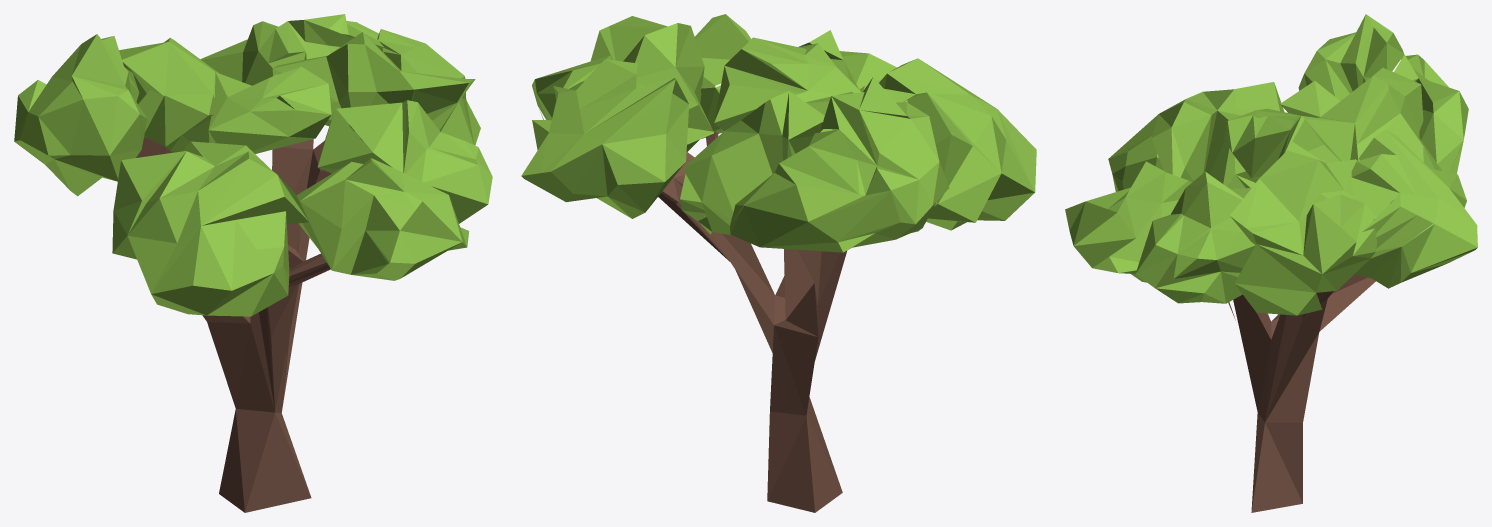
Rendered from tree1.glb.
3 renders of one model, left to right at view 1: azimuth 30°, elevation 25°; view 2: azimuth 150°, elevation 25°; view 3: azimuth 270°, elevation 25°, orthographic. The views are drawn at different scales.
Parts seen in each view (by area): view 1: Node; view 2: Node; view 3: Node.
Part boxes in pixels (x1,y1,x2,y2): Node: (14, 14, 492, 512); Node: (521, 14, 1036, 512); Node: (1065, 14, 1477, 512).
Bounding box in the file's own units: 9.9 × 10.45 × 9.12.
